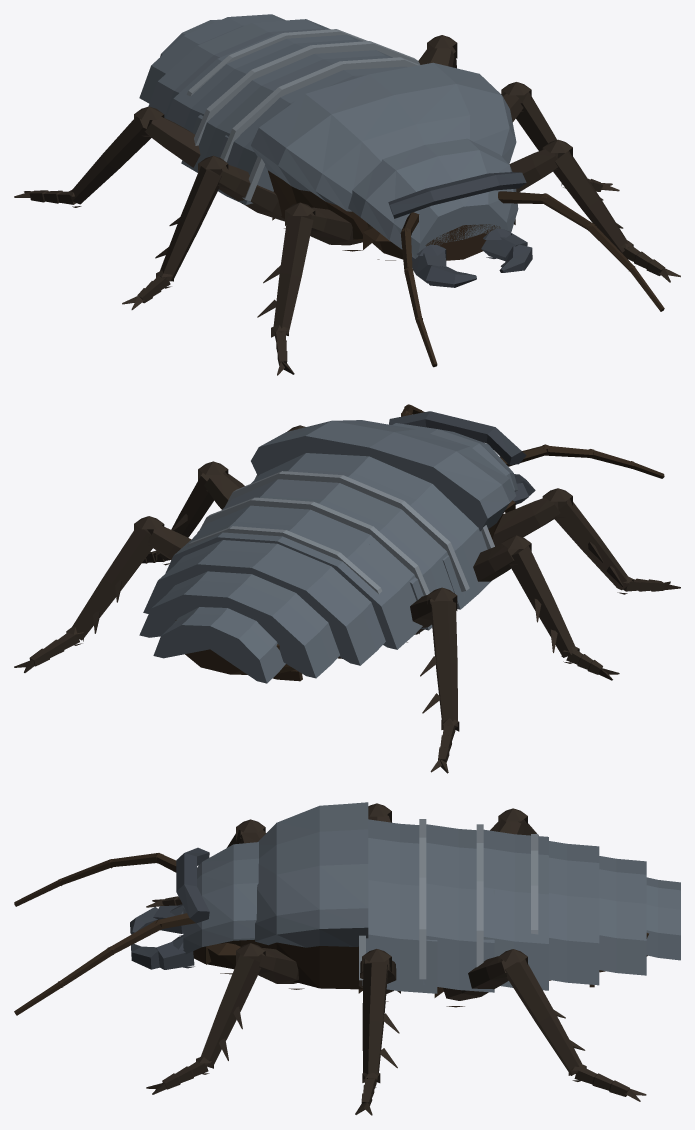
Rendered from hmuryi_bron.glb.
3 views of the same model, one above another, from view 1: azimuth 30°, elevation 25°; view 2: azimuth 150°, elevation 25°; view 3: azimuth 270°, elevation 25° (orthographic).
Visible parts, largest first — view 1: Armor_pronotum, head_casque, Armor_BeetlePlate_01, Armor_BeetlePlate_02, Armor_BeetlePlate_03, Armor_BeetlePlate_00, Tibia001, Tibia003, brow_ridge, Armor_edge_02, Tibia000, Armor_BeetlePlate_04 (+16 smaller); view 2: Armor_pronotum, Armor_BeetlePlate_02, Armor_BeetlePlate_03, Armor_BeetlePlate_04, Armor_BeetlePlate_00, Armor_BeetlePlate_01, Armor_BeetlePlate_05, Tibia005, Tibia004, Tibia003, Armor_edge_01, Armor_edge_02 (+12 smaller); view 3: Armor_pronotum, Armor_BeetlePlate_00, Armor_BeetlePlate_01, Armor_BeetlePlate_02, Armor_BeetlePlate_03, head_casque, Armor_BeetlePlate_04, ThoraxCore, Tibia004, Armor_BeetlePlate_05, Tibia002, Tibia000 (+13 smaller).
Boxes of the visible parts, box(x1,y1,x2,y2) form: Armor_pronotum: box(251, 62, 516, 211); head_casque: box(348, 138, 518, 258); Armor_BeetlePlate_01: box(181, 50, 392, 172); Armor_BeetlePlate_02: box(166, 33, 362, 132); Armor_BeetlePlate_03: box(148, 19, 330, 118); Armor_BeetlePlate_00: box(218, 66, 407, 204); Tibia001: box(257, 215, 313, 334); Tibia003: box(155, 166, 221, 281); brow_ridge: box(388, 172, 526, 218); Armor_edge_02: box(194, 41, 420, 145); Tibia000: box(553, 151, 629, 252); Armor_BeetlePlate_04: box(139, 14, 285, 103); Armor_pronotum: box(251, 420, 516, 531); Armor_BeetlePlate_02: box(165, 505, 422, 649); Armor_BeetlePlate_03: box(143, 540, 385, 665); Armor_BeetlePlate_04: box(139, 571, 339, 678); Armor_BeetlePlate_00: box(251, 453, 491, 609); Armor_BeetlePlate_01: box(197, 479, 465, 630); Armor_BeetlePlate_05: box(153, 607, 285, 683); Tibia005: box(420, 601, 457, 728); Tibia004: box(71, 526, 153, 640); Tibia003: box(509, 546, 576, 657); Armor_edge_01: box(225, 471, 469, 591); Armor_edge_02: box(200, 497, 429, 595); Armor_pronotum: box(255, 802, 368, 947); Armor_BeetlePlate_00: box(362, 819, 437, 993); Armor_BeetlePlate_01: box(423, 824, 494, 992); Armor_BeetlePlate_02: box(483, 829, 548, 990); Armor_BeetlePlate_03: box(549, 841, 599, 985); head_casque: box(183, 842, 258, 953); Armor_BeetlePlate_04: box(599, 856, 646, 975); ThoraxCore: box(258, 942, 362, 989); Tibia004: box(505, 959, 585, 1075); Armor_BeetlePlate_05: box(646, 877, 680, 960); Tibia002: box(362, 963, 399, 1080); Tibia000: box(200, 954, 260, 1067).
Size of the model in its own units: 3.88 by 1.3 by 4.65.
